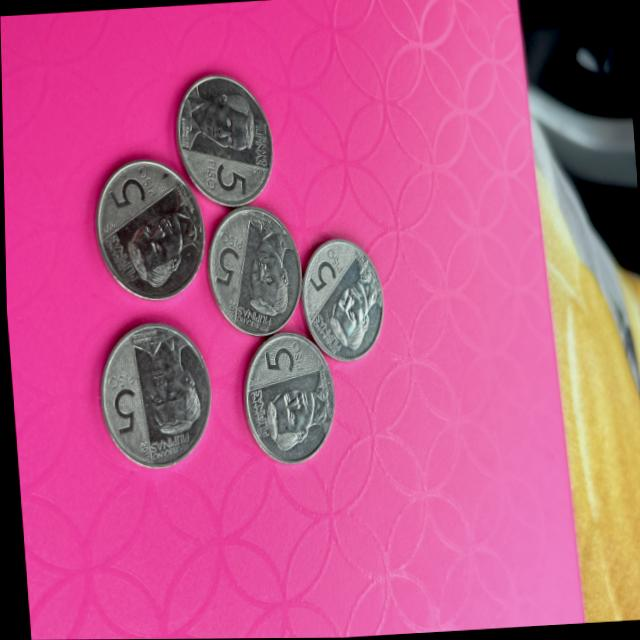5_New_Front: (103, 162, 159, 220), (97, 367, 139, 441), (205, 228, 247, 297), (256, 331, 304, 384), (301, 243, 347, 293), (200, 157, 248, 198)
